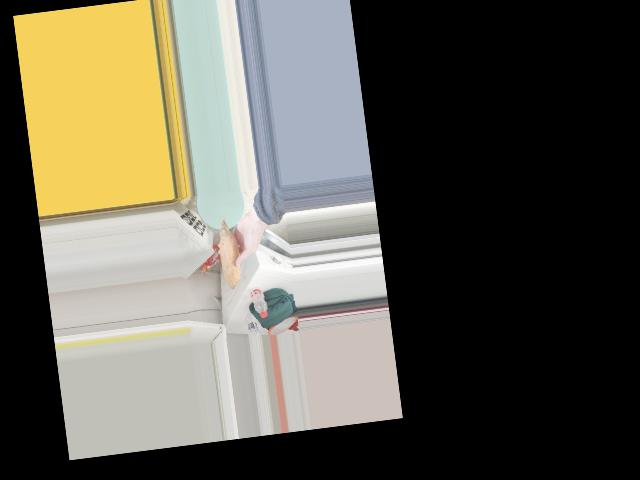sweet_potato: (218, 226, 241, 288)
